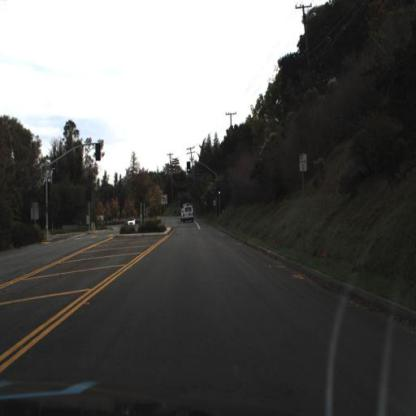car: (183, 206, 199, 224), (127, 215, 137, 231), (129, 217, 139, 229)
trafficLight-Green: (216, 182, 224, 204), (185, 163, 192, 182), (187, 163, 192, 175), (219, 183, 224, 195)
